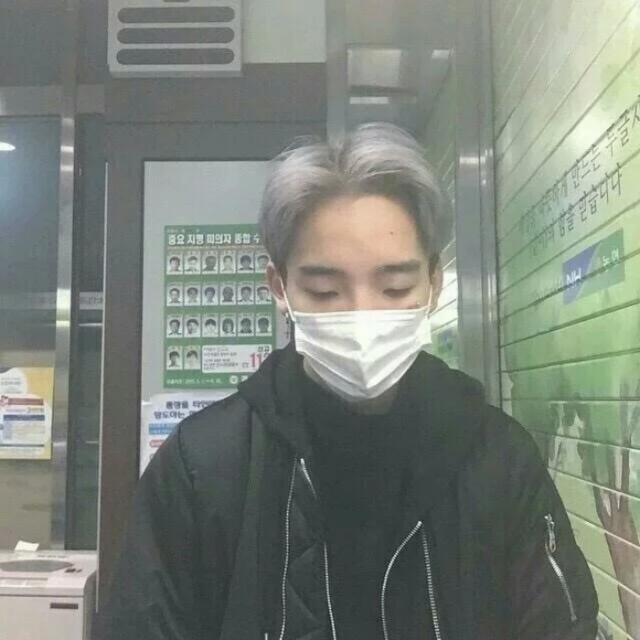mask: (281, 195, 428, 394)
